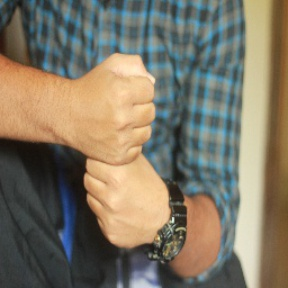G: (72, 45, 167, 252)
